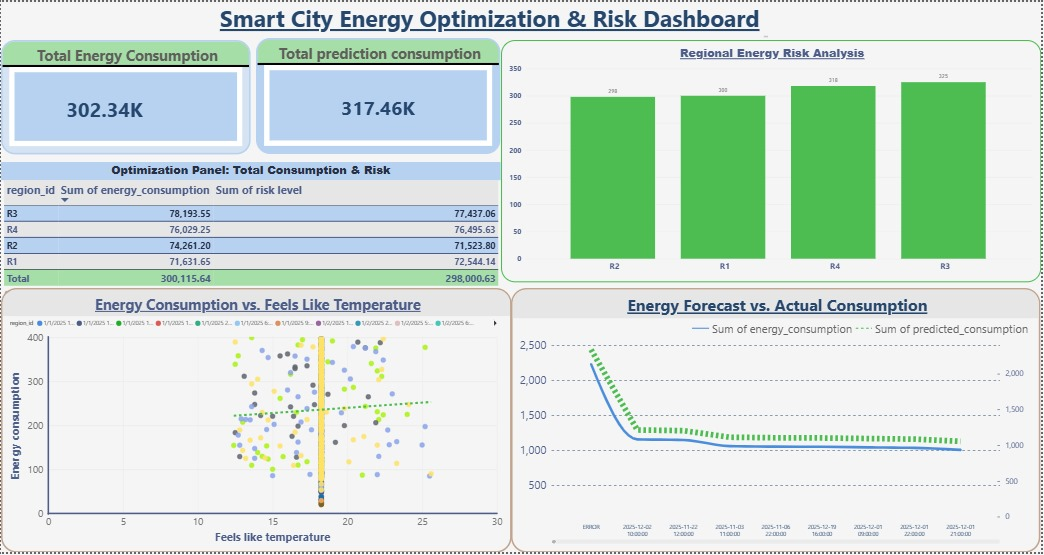

This screenshot's page, from the dashboard's own definition file:
{"tool":"powerbi","page":{"name":"Page 1","canvas":[2000,1059],"ordinal":0},"visuals":[{"type":"clusteredColumnChart","title":"Regional Energy Risk Analysis","fields":{"Category":["view_optimization_recommendations.region_id"],"Y":["CountNonNull(view_optimization_recommendations.scored_labels)"]},"box":[961,73.4,1039,465.6],"z":0},{"type":"tableEx","title":"Optimization Panel: Total Consumption & Risk","fields":{"Values":["view_optimization_recommendations.region_id","view_optimization_recommendations.energy_consumption","Sum(view_optimization_recommendations.scored_labels)"]},"box":[0,307.3,961,268.3],"z":1000},{"type":"lineChart","title":"Energy Forecast vs. Actual Consumption","fields":{"Y":["Sum(view_energy_forecast.energy_consumption)","Sum(view_energy_forecast.predicted_consumption)"],"Category":["view_energy_forecast.reading_time"]},"box":[981.7,550.5,1018.3,509.2],"z":2000},{"type":"scatterChart","title":"Energy Consumption vs. Feels Like Temperature","fields":{"X":["view_energy_forecast.feels_like"],"Y":["view_energy_forecast.energy_consumption"],"Series":["view_energy_forecast.region_id"]},"box":[0,550.5,981.7,509.2],"z":3000},{"type":"cardVisual","title":"Total production consumption ","fields":{"Data":["Sum(view_energy_forecast.predicted_consumption)"]},"box":[467.9,71.1,493.1,222.5],"z":4000},{"type":"cardVisual","title":"Total Energy Consumption ","fields":{"Data":["Sum(view_energy_forecast.energy_consumption)"]},"box":[0,73.4,467.9,222.5],"z":5000},{"type":"textbox","title":"Smart City Energy Optimization & Risk Dashboard","box":[348.6,0,1080.3,71.1],"z":6000}]}

Visuals, with their boxes in screenshot pixels (x1, y1, x2, y2), scaled from the page's 2000x1059 canvas onto the 1044x555 screenshot:
"Regional Energy Risk Analysis" clusteredColumnChart: crop(502, 38, 1043, 282)
"Optimization Panel: Total Consumption & Risk" tableEx: crop(0, 161, 502, 302)
"Energy Forecast vs. Actual Consumption" lineChart: crop(512, 289, 1043, 554)
"Energy Consumption vs. Feels Like Temperature" scatterChart: crop(0, 289, 512, 554)
"Total production consumption " cardVisual: crop(244, 37, 502, 154)
"Total Energy Consumption " cardVisual: crop(0, 38, 244, 155)
"Smart City Energy Optimization & Risk Dashboard" textbox: crop(182, 0, 746, 37)
